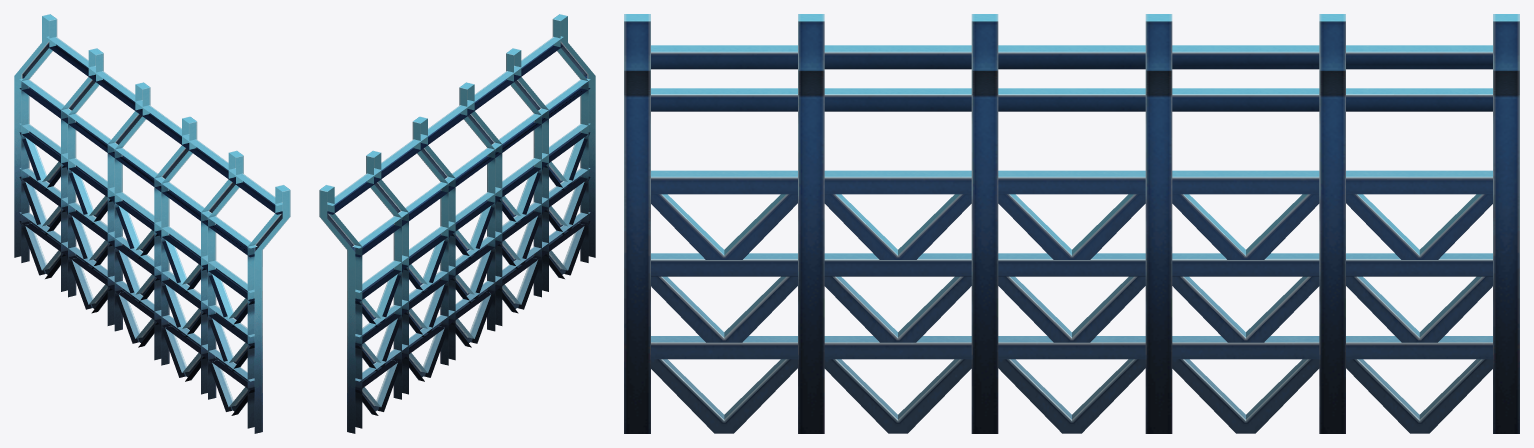
Rendered from cj_pingfeng2.fbx.
The picture shows the model from 3 angles, left to right: view 1: azimuth 30°, elevation 25°; view 2: azimuth 150°, elevation 25°; view 3: azimuth 270°, elevation 25°; orthographic projection. The views are drawn at different scales.
Parts seen in each view (by area): view 1: zj_pingfeng2; view 2: zj_pingfeng2; view 3: zj_pingfeng2.
Part boxes in pixels (x1,y1,x2,y2): zj_pingfeng2: (14,14,290,433); zj_pingfeng2: (319,14,595,433); zj_pingfeng2: (624,14,1519,433).
Bounding box in the file's own units: 127 × 792 × 1468.
